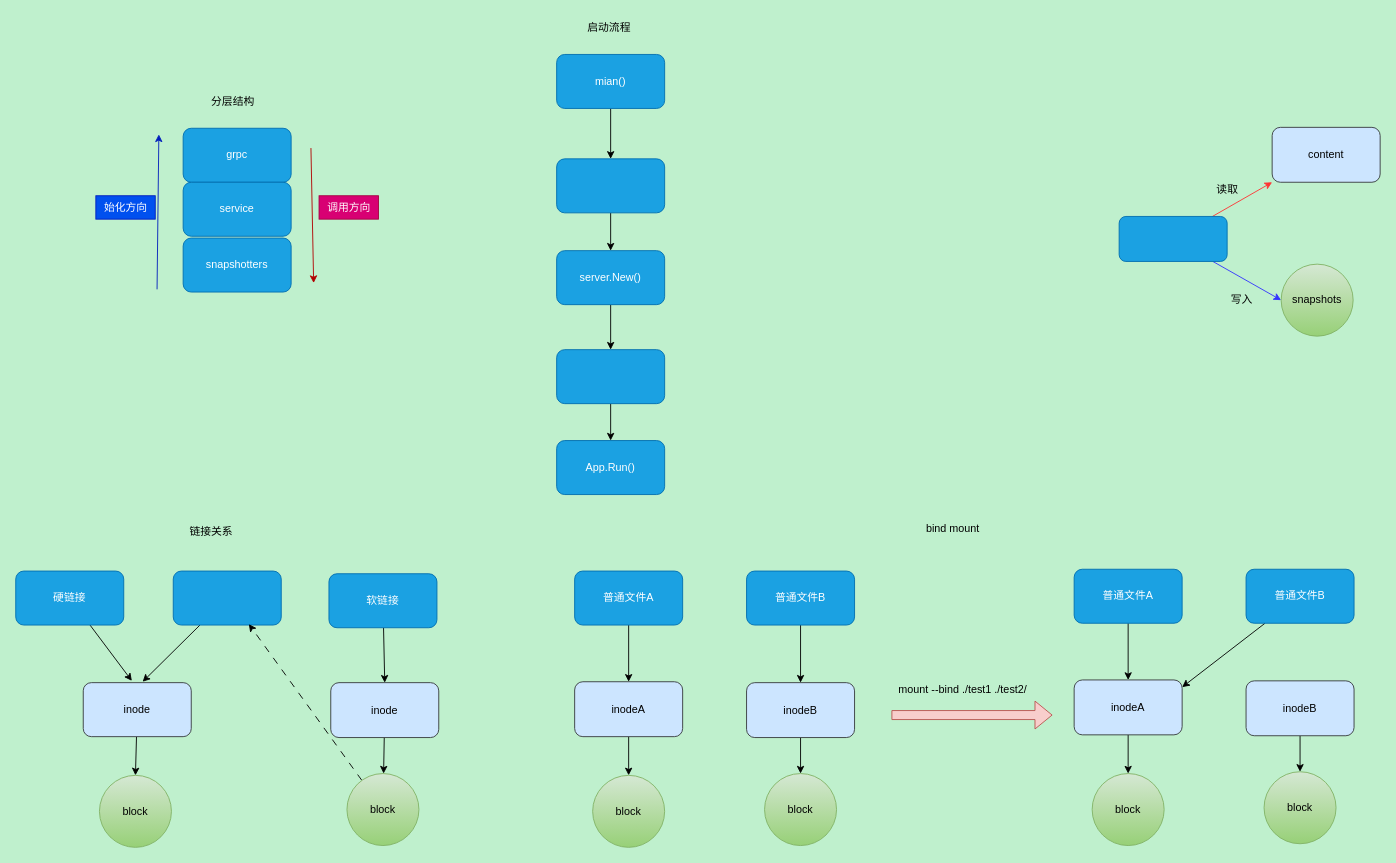
Image size: 1396x863. Some labels were removed from this diagram. The shapes that lost their labels are listed below. From the top down, each one's centre as x and y in pixels, then its label:
pixel 610 185: command.App()
pixel 1172 238: apply
pixel 610 376: LoadPlugins()
pixel 226 597: 普通文件
